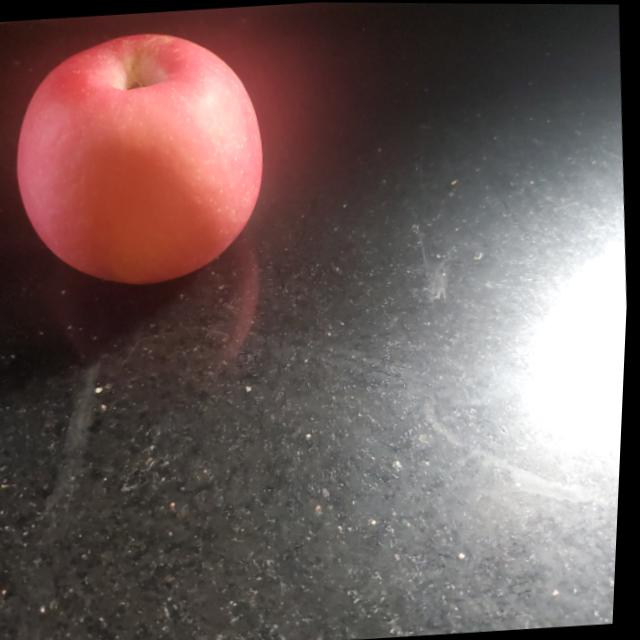apple: (0, 29, 274, 293)
